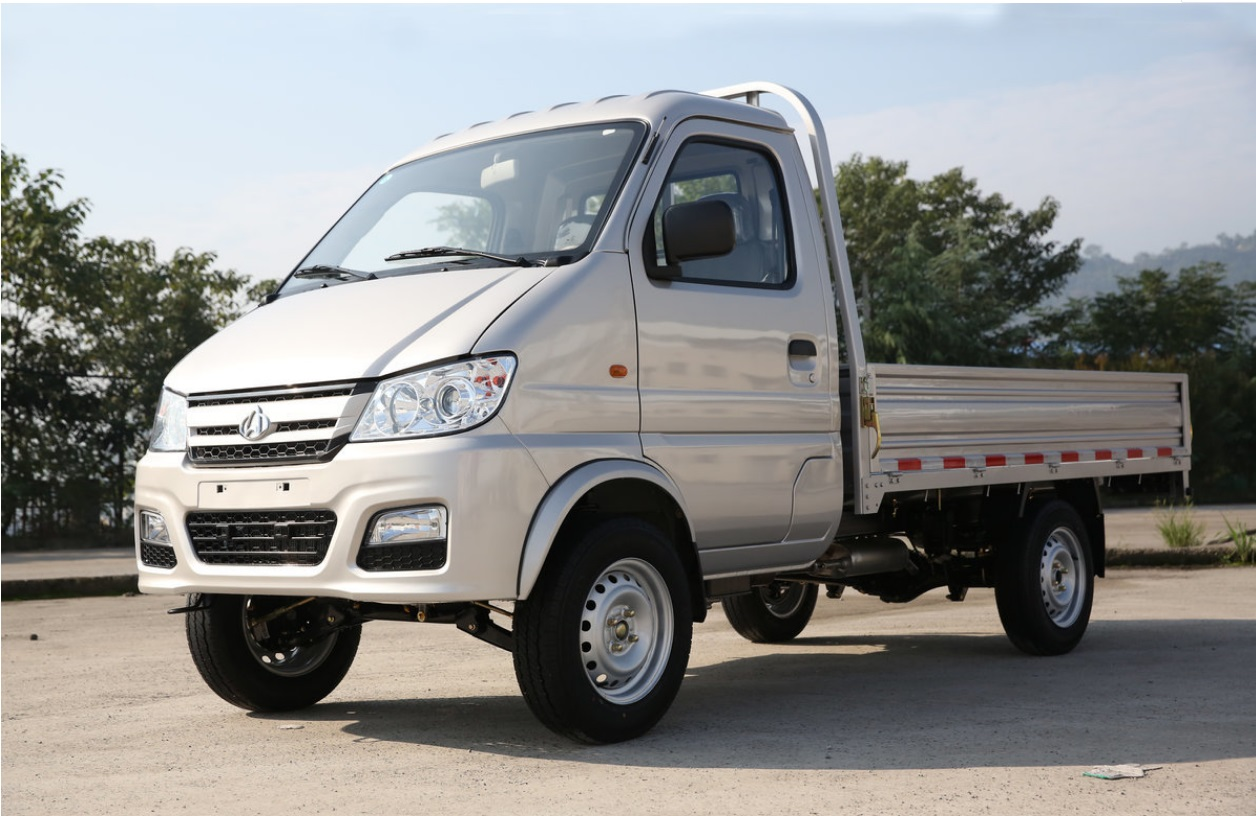truck: (130, 80, 1198, 762)
